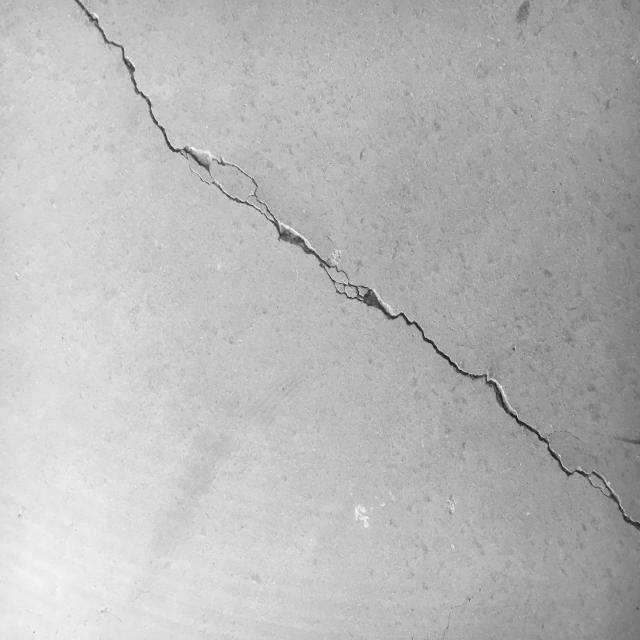SurfaceCrack: (3, 0, 640, 609)
